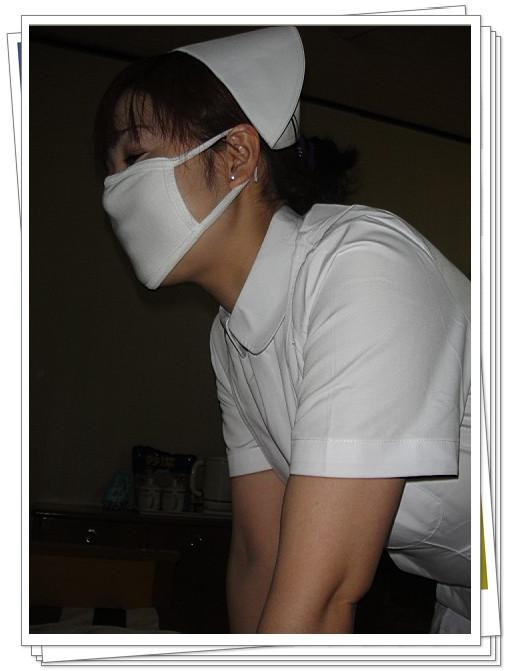OK: (101, 123, 255, 277)
